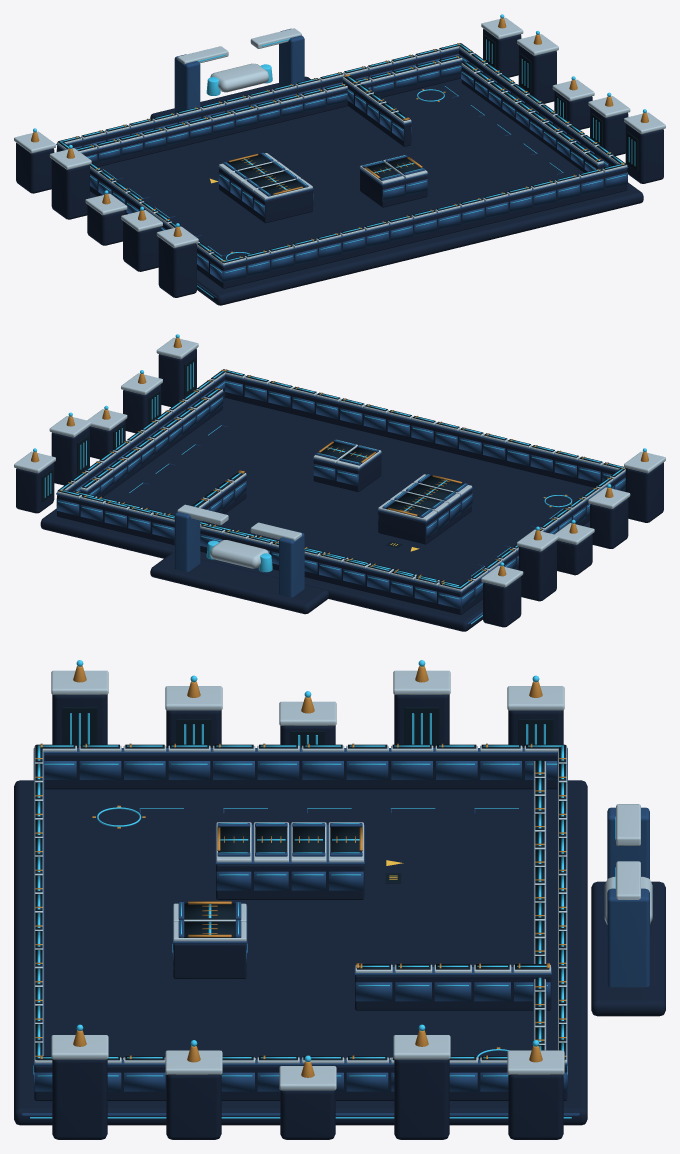
File: dock.glb
The picture shows the model from 3 angles, top to bottom: view 1: azimuth 30°, elevation 25°; view 2: azimuth 150°, elevation 25°; view 3: azimuth 270°, elevation 25°; orthographic projection. The views are drawn at different scales.
Visible parts, largest first — view 1: Raised orbital deck, SOLID 1 border, SOLID 7 reflector, Exterior dock pylon.004, SOLID 0 border, Exterior dock pylon.001, SOLID 4 cover, Exterior dock pylon.009, Exterior dock pylon, Exterior dock pylon.003, Exterior dock pylon.006, Orbital docking tower (+27 smaller); view 2: Raised orbital deck, SOLID 1 border, Horizon installation platform, SOLID 0 border, Exterior dock pylon.004, Exterior dock pylon.001, SOLID 4 cover, Exterior dock pylon, Exterior dock pylon.003, Orbital docking tower, Orbital docking tower.001, Exterior dock pylon.006 (+24 smaller); view 3: Raised orbital deck, SOLID 2 border, Horizon installation platform, SOLID 3 border, Exterior dock pylon.009, Exterior dock pylon.006, Orbital docking tower.001, SOLID 6 cover, Exterior dock pylon.008, Exterior dock pylon.005, SOLID 4 cover, Exterior dock pylon.007 (+53 smaller).
Boxes of the visible parts, x1,y1,x2,y2 form: Raised orbital deck: [90, 78, 643, 305]; SOLID 1 border: [222, 169, 627, 288]; SOLID 7 reflector: [83, 61, 462, 166]; Exterior dock pylon.004: [158, 237, 196, 297]; SOLID 0 border: [68, 49, 458, 147]; Exterior dock pylon.001: [51, 159, 89, 219]; SOLID 4 cover: [219, 168, 312, 223]; Exterior dock pylon.009: [625, 123, 663, 183]; Exterior dock pylon: [16, 143, 54, 193]; Exterior dock pylon.003: [123, 221, 161, 271]; Exterior dock pylon.006: [518, 45, 556, 103]; Orbital docking tower: [174, 54, 200, 113]; Raised orbital deck: [40, 398, 592, 631]; SOLID 1 border: [225, 376, 616, 487]; Horizon installation platform: [150, 553, 328, 614]; SOLID 0 border: [57, 495, 463, 614]; Exterior dock pylon.004: [625, 462, 663, 522]; Exterior dock pylon.001: [518, 541, 556, 601]; SOLID 4 cover: [378, 489, 471, 544]; Exterior dock pylon: [483, 577, 521, 627]; Exterior dock pylon.003: [590, 498, 628, 548]; Orbital docking tower: [279, 530, 304, 597]; Orbital docking tower.001: [174, 505, 200, 571]; Exterior dock pylon.006: [51, 427, 89, 485]; Raised orbital deck: [14, 780, 587, 1125]; SOLID 2 border: [44, 754, 557, 789]; Horizon installation platform: [591, 881, 665, 1016]; SOLID 3 border: [34, 1065, 566, 1100]; Exterior dock pylon.009: [52, 1059, 107, 1139]; Exterior dock pylon.006: [394, 1059, 449, 1139]; Orbital docking tower.001: [607, 888, 649, 987]; SOLID 6 cover: [355, 975, 551, 1010]; Exterior dock pylon.008: [166, 1074, 221, 1139]; Exterior dock pylon.005: [508, 1074, 563, 1139]; SOLID 4 cover: [216, 864, 364, 899]; Exterior dock pylon.007: [280, 1090, 335, 1139].
Size of the model in its own units: 25.51 by 3.68 by 18.3.
